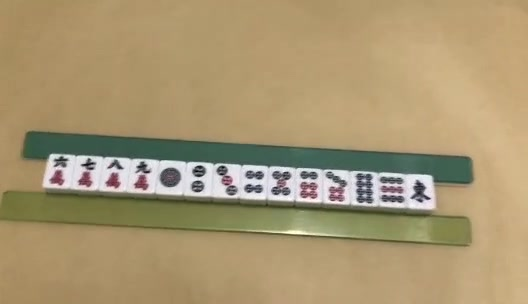1p: (159, 168, 182, 187)
1z: (410, 180, 431, 204)
2p: (193, 166, 205, 194)
3p: (217, 165, 238, 197)
4p: (245, 171, 265, 193)
5p: (271, 171, 291, 194)
6m: (48, 156, 68, 188)
6p: (300, 172, 317, 199)
7m: (78, 157, 96, 189)
7p: (325, 172, 347, 203)
8m: (104, 160, 123, 188)
8p: (356, 174, 373, 205)
9m: (134, 161, 152, 192)
9p: (381, 176, 405, 202)
